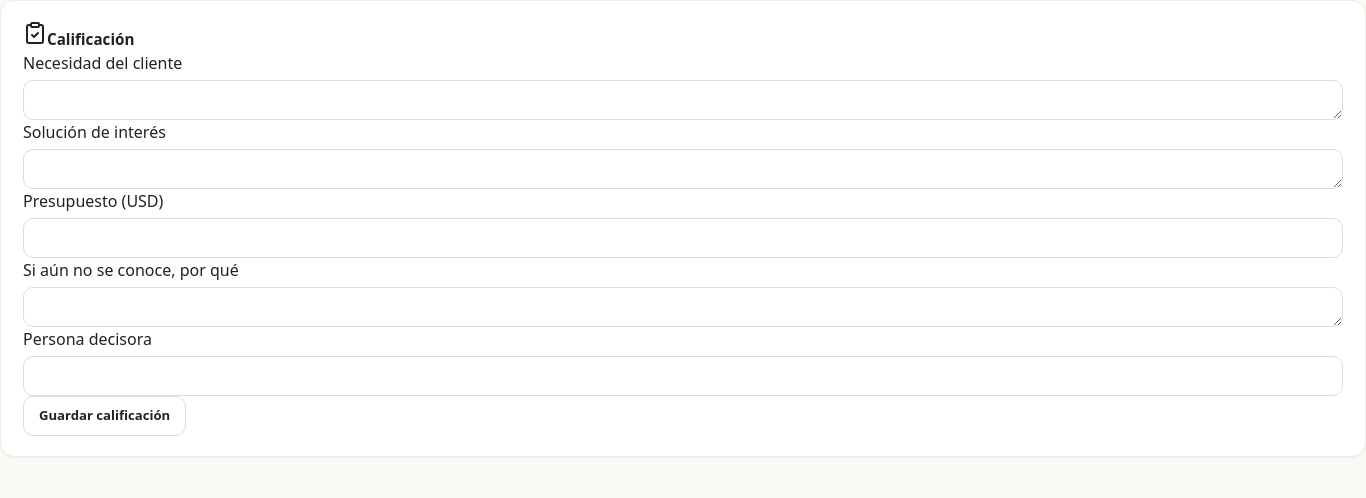
Test: un presupuesto inválido se marca en su campo
Click the button "Guardar calificación". click: x=105, y=416
box: [23, 396, 186, 436]
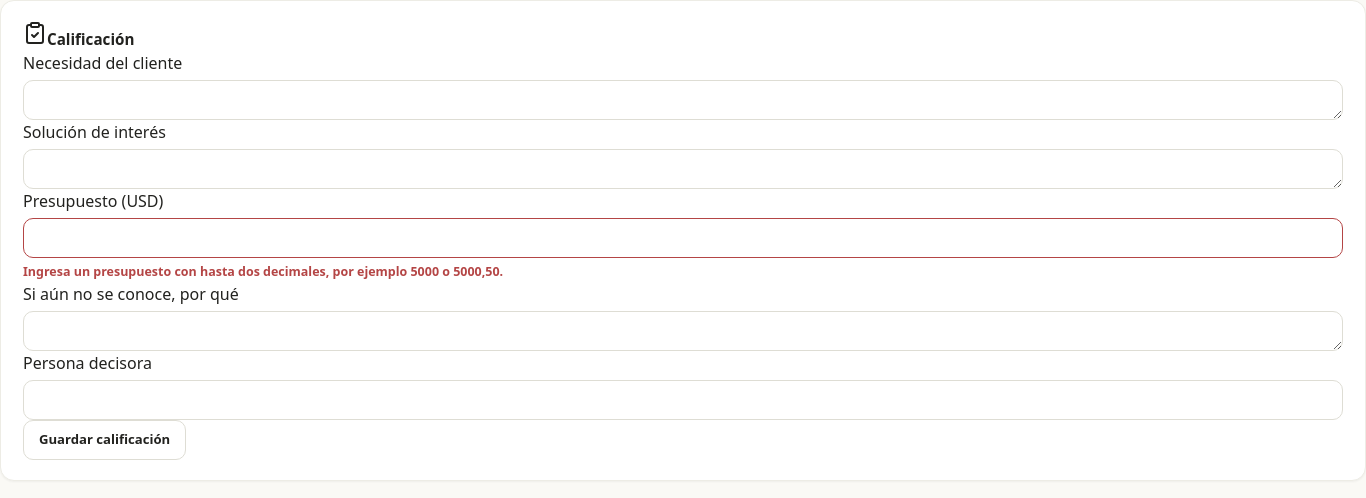
Expected: the text "presupuesto con hasta dos decimales" is shown, [23, 263, 503, 280]
